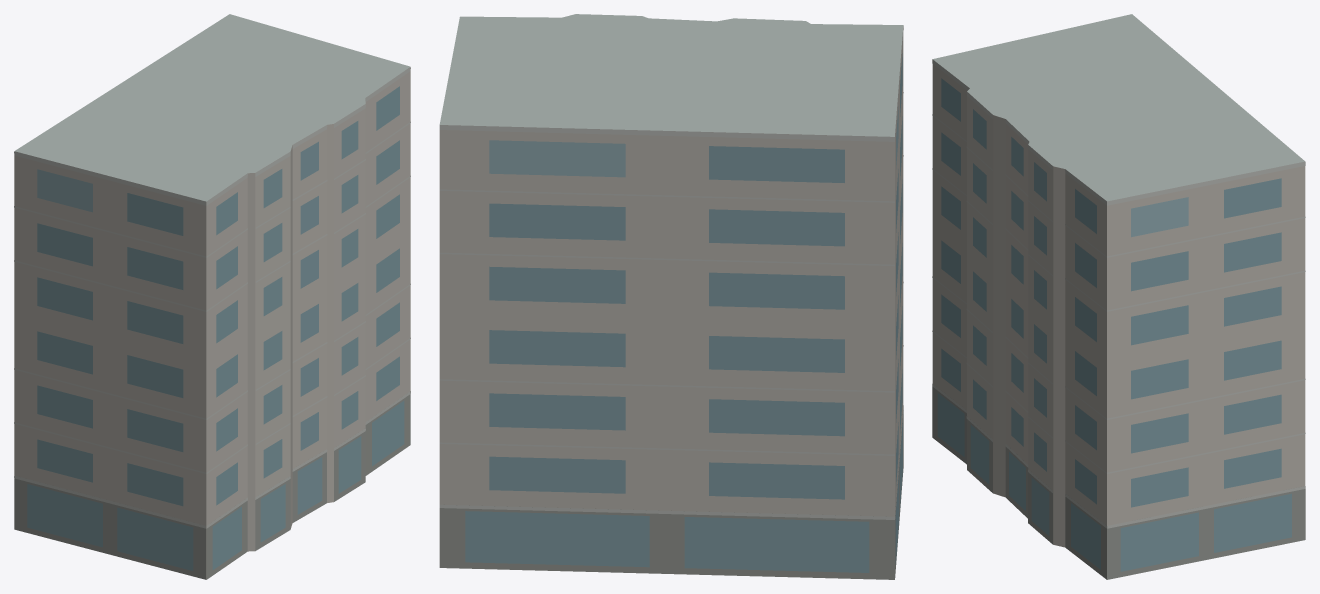
Rendered from survey-upis-32741956.glb.
The picture shows the model from 3 angles, left to right: view 1: azimuth 30°, elevation 25°; view 2: azimuth 150°, elevation 25°; view 3: azimuth 270°, elevation 25°; orthographic projection. The views are drawn at different scales.
Parts seen in each view (by area): view 1: survey-upis-32741956.tmp; view 2: survey-upis-32741956.tmp; view 3: survey-upis-32741956.tmp.
Part boxes in pixels (x1,y1,x2,y2): survey-upis-32741956.tmp: [14, 14, 410, 579]; survey-upis-32741956.tmp: [439, 14, 903, 579]; survey-upis-32741956.tmp: [932, 14, 1305, 579].
Size of the model in its own units: 22.7 by 21.35 by 19.09.
